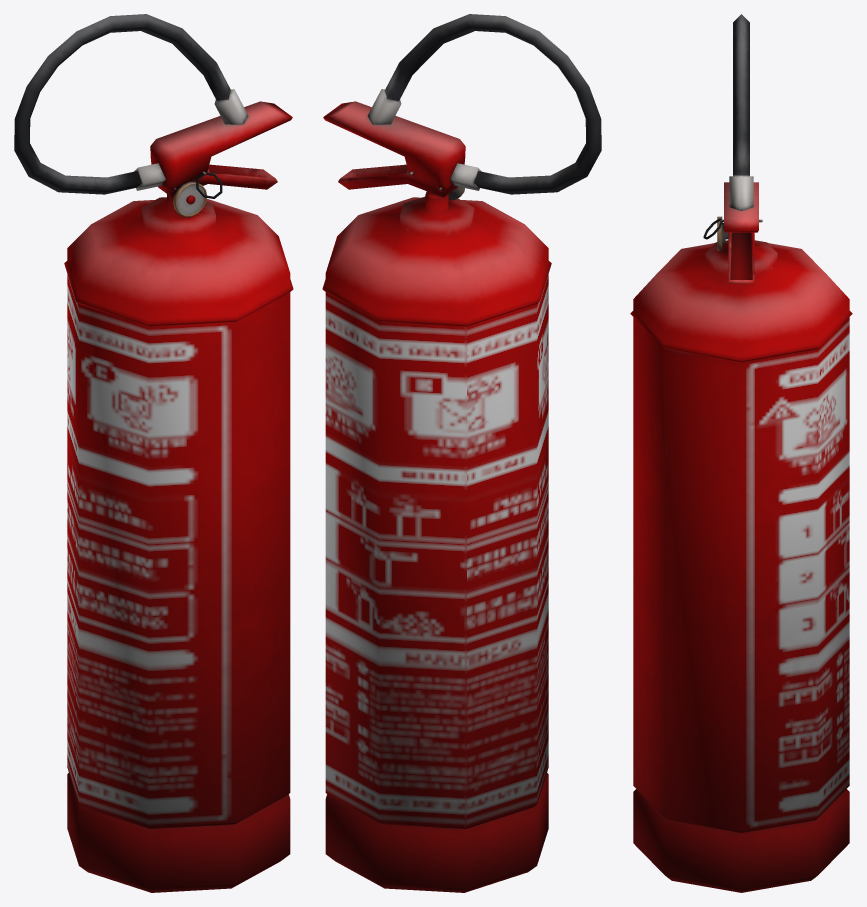
The model's file is FireExtinguisher.glb.
3 views of the same model, side by side, from view 1: azimuth 30°, elevation 25°; view 2: azimuth 150°, elevation 25°; view 3: azimuth 270°, elevation 25° (orthographic). The views are drawn at different scales.
Parts seen in each view (by area): view 1: FireExtinguisher.001; view 2: FireExtinguisher.001; view 3: FireExtinguisher.001.
Part boxes in pixels (left/top/right/bottom): FireExtinguisher.001: left=14, top=14, right=293, bottom=892; FireExtinguisher.001: left=322, top=14, right=601, bottom=892; FireExtinguisher.001: left=630, top=14, right=852, bottom=892.
Size of the model in its own units: 0.2693 by 0.8133 by 0.2058.
1 material, 1 textured.
